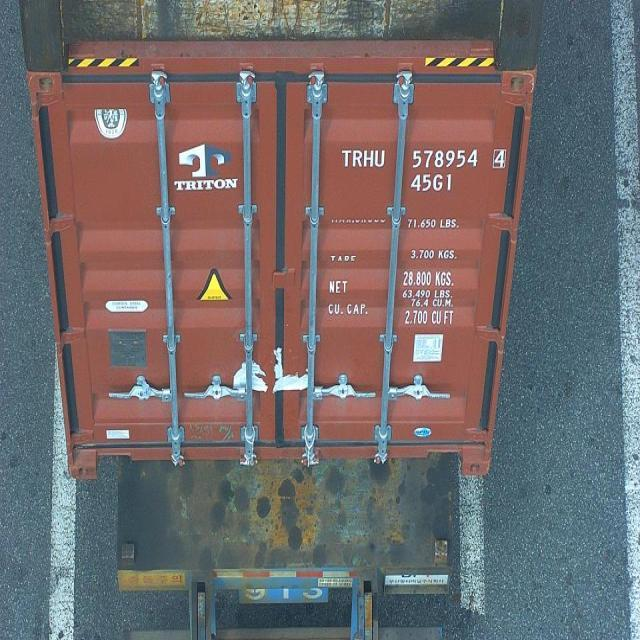ISO: (410, 174, 454, 193)
container_number: (346, 147, 506, 171)
